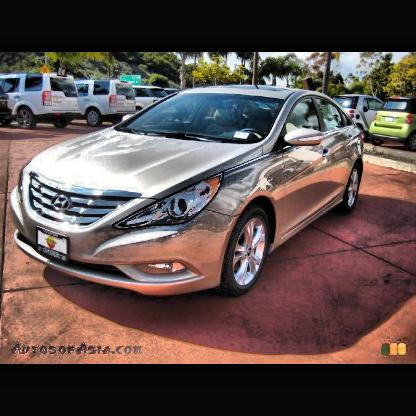Hyundai Sonata Sedan 2012: (9, 84, 365, 301)
